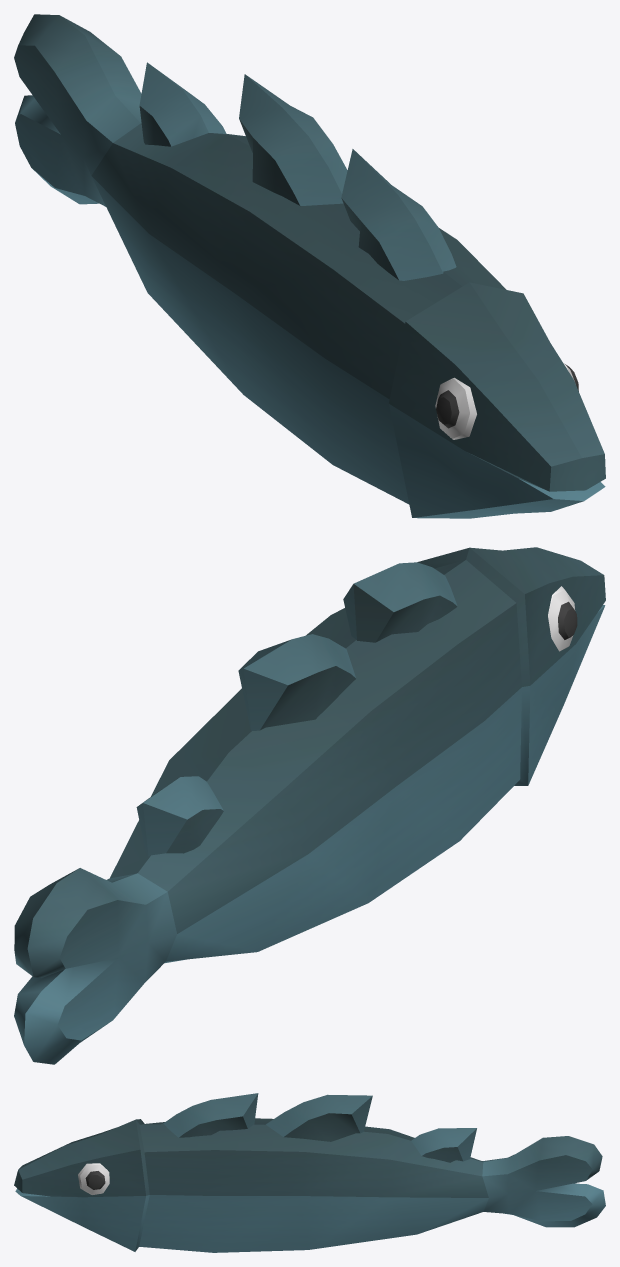
Rendered from Fish_2_A.glb.
The picture shows the model from 3 angles, top to bottom: view 1: azimuth 30°, elevation 25°; view 2: azimuth 150°, elevation 25°; view 3: azimuth 270°, elevation 25°; orthographic projection. The views are drawn at different scales.
Parts seen in each view (by area): view 1: Fish_2_A; view 2: Fish_2_A; view 3: Fish_2_A.
Boxes of the visible parts, x1,y1,x2,y2 form: Fish_2_A: [14, 14, 605, 518]; Fish_2_A: [14, 547, 605, 1064]; Fish_2_A: [14, 1093, 605, 1252].
Bounding box in the file's own units: 0.1094 × 0.1904 × 0.6612.
Materials: 1 (1 with a texture image).
